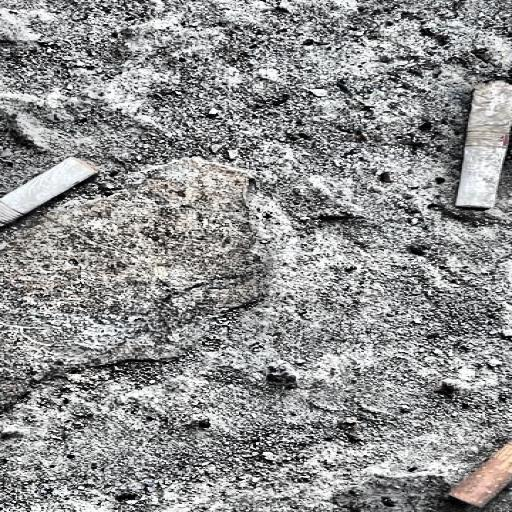Merokok: (458, 81, 512, 210), (0, 158, 97, 226), (451, 442, 512, 507)
